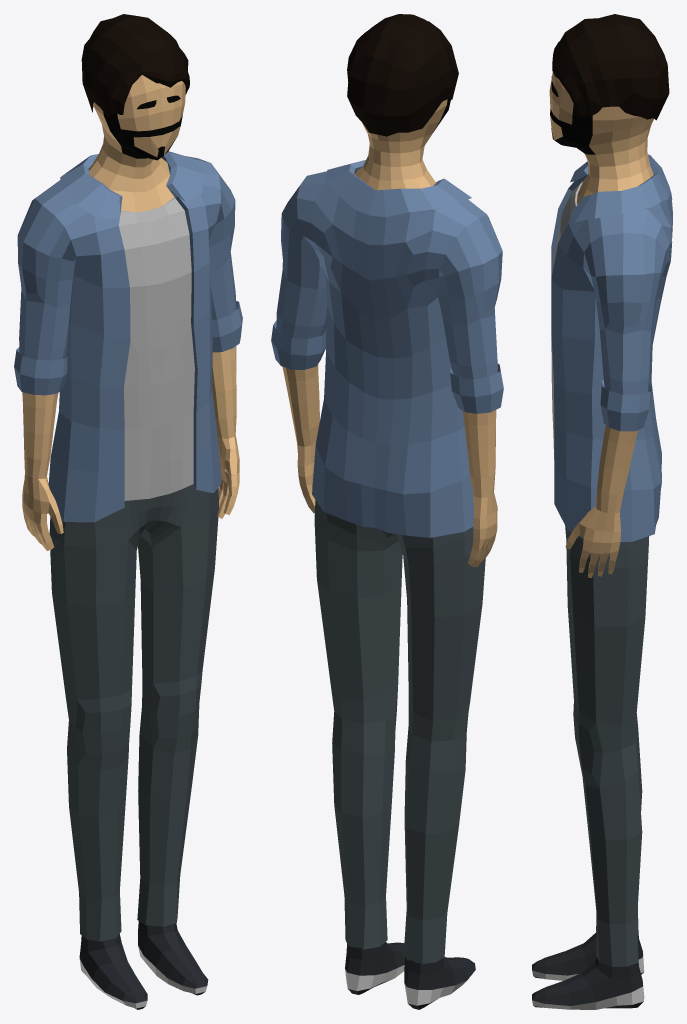
File: Human.obj
3 renders of one model, left to right at view 1: azimuth 30°, elevation 25°; view 2: azimuth 150°, elevation 25°; view 3: azimuth 270°, elevation 25°, orthographic.
Visible parts, largest first — view 1: ManCasual2; view 2: ManCasual2; view 3: ManCasual2.
Boxes of the visible parts, x1=… form: ManCasual2: x1=14, y1=14, x2=242, y2=1009; ManCasual2: x1=271, y1=14, x2=503, y2=1009; ManCasual2: x1=532, y1=14, x2=672, y2=1009.
Size of the model in its own units: 0.2349 by 0.9604 by 0.1262.
1 material, 1 textured.
